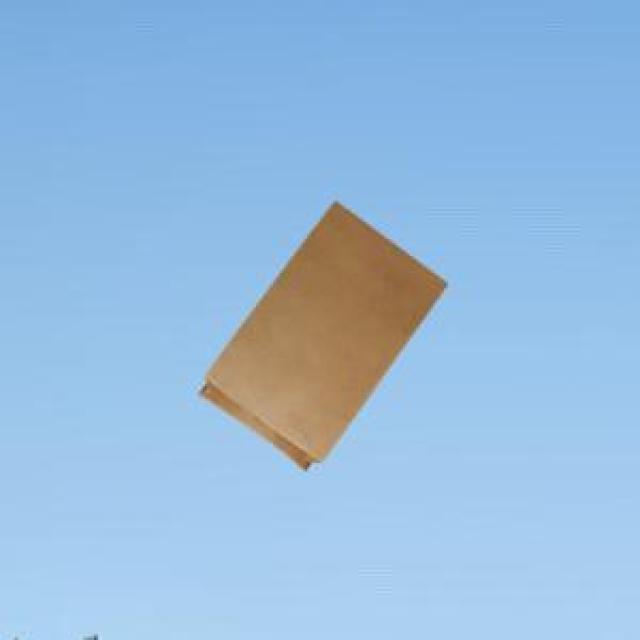paper: (196, 198, 444, 465)
